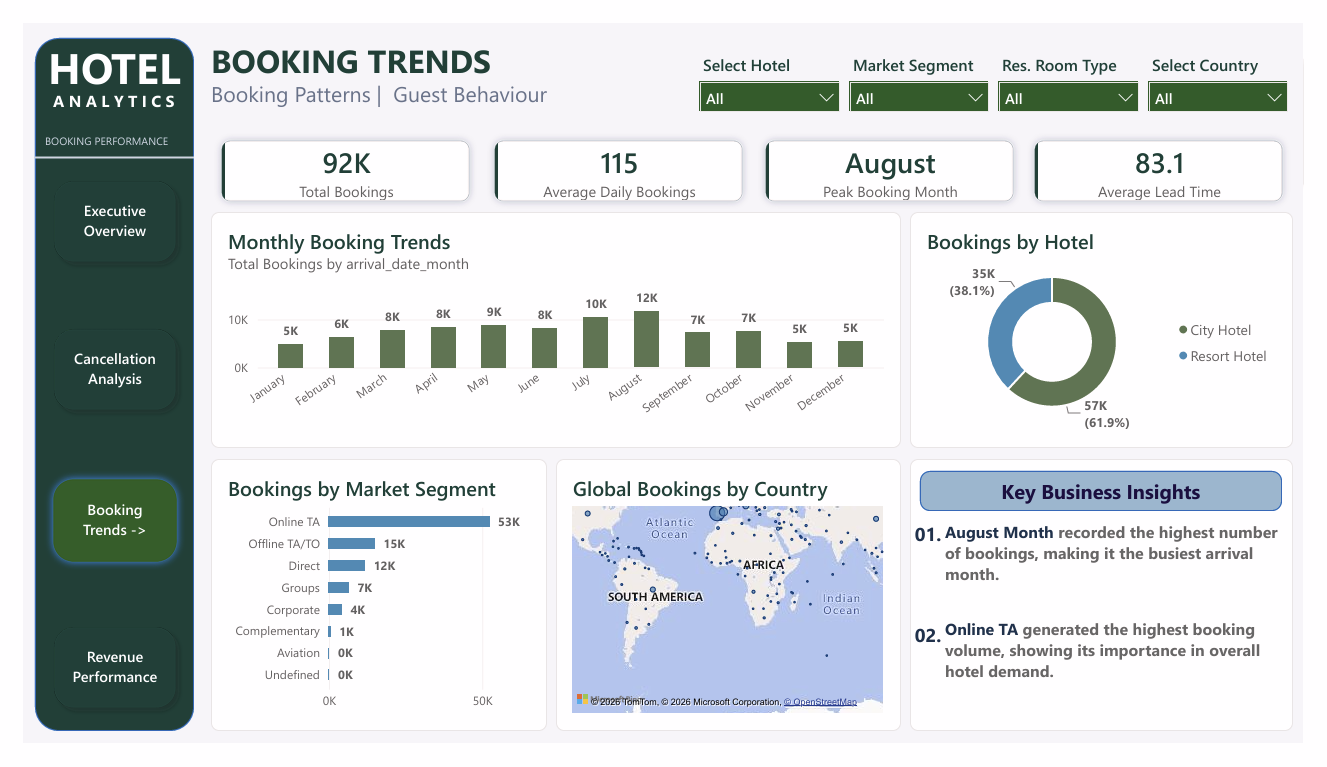

The page's visual inventory and layout, read from the dashboard file:
{"tool":"powerbi","page":{"name":"Booking Trends","canvas":[1280,720],"ordinal":2},"visuals":[{"type":"textbox","box":[186.6,13.7,1082.7,81],"z":0},{"type":"textbox","box":[186.6,54.9,465.2,39.8],"z":1000},{"type":"shape","box":[11,13.7,159.2,693],"z":2000},{"type":"textbox","box":[11,13.7,159.2,65.9],"z":3000},{"type":"textbox","box":[20.6,105.7,149.6,28.8],"z":4000},{"type":"shape","box":[11,119.4,159.2,28.8],"z":5000},{"type":"actionButton","box":[20.6,148.2,140,98.8],"z":6000},{"type":"textbox","box":[28.8,65.9,141.3,28.8],"z":7000},{"type":"actionButton","box":[20.6,296.4,140,98.8],"z":8000},{"type":"actionButton","box":[20.6,447.3,140,98.8],"z":9000},{"type":"actionButton","box":[20.6,594.2,140,98.8],"z":10000},{"type":"cardVisual","fields":{"Data":["Hotel Measures.Total Bookings"]},"box":[186.6,105.7,269,82.3],"z":11000},{"type":"slicer","fields":{"Values":["public hotel_bookings_unique.hotel"]},"box":[671,30.2,149.6,64.5],"z":12000},{"type":"slicer","fields":{"Values":["public hotel_bookings_unique.market_segment"]},"box":[820.6,30.2,149.6,64.5],"z":13000},{"type":"slicer","fields":{"Values":["public hotel_bookings_unique.country"]},"box":[1119.7,30.2,149.6,64.5],"z":14000},{"type":"slicer","fields":{"Values":["public hotel_bookings_unique.reserved_room_type"]},"box":[970.2,30.2,149.6,64.5],"z":15000},{"type":"cardVisual","fields":{"Data":["Hotel Measures.Average Daily Bookings"]},"box":[459.7,105.7,269,82.3],"z":16000},{"type":"cardVisual","fields":{"Data":["Hotel Measures.Peak Booking Month"]},"box":[731.4,105.7,269,82.3],"z":17000},{"type":"cardVisual","fields":{"Data":["Hotel Measures.Average Lead Time"]},"box":[1000.3,105.7,269,82.3],"z":18000},{"type":"textbox","title":"Key Insights","box":[886.5,435,382.8,271.7],"z":19000},{"type":"shape","box":[896.1,447.3,362.3,39.8],"z":20000},{"type":"clusteredColumnChart","title":"Monthly Booking Trends","fields":{"Category":["public hotel_bookings_unique.arrival_date_month"],"Y":["Hotel Measures.Total Bookings"]},"box":[186.6,188,690.2,236],"z":21000},{"type":"donutChart","title":"Bookings by Hotel","fields":{"Category":["public hotel_bookings_unique.hotel"],"Y":["Hotel Measures.Total Bookings"]},"box":[886.5,188,382.8,236],"z":22000},{"type":"clusteredBarChart","title":"Bookings by Market Segment","fields":{"Category":["public hotel_bookings_unique.market_segment"],"Y":["Hotel Measures.Total Bookings"]},"box":[186.6,435,336.2,271.7],"z":23000},{"type":"map","title":"Global Bookings by Country","fields":{"Category":["public hotel_bookings_unique.country"],"Size":["Hotel Measures.Total Bookings"]},"box":[532.4,435,344.4,271.7],"z":24000},{"type":"textbox","box":[920.9,497,337,97],"z":25000},{"type":"textbox","box":[920.9,594,337,98.7],"z":26000},{"type":"textbox","box":[886.8,497,34,195.7],"z":27000}]}

Visuals, with their boxes in screenshot pixels (x1, y1, x2, y2), scaled from the page's 1280x720 canvas onto the 1327x767 screenshot:
textbox: <box>193,15,1316,101</box>
textbox: <box>193,58,676,101</box>
shape: <box>11,15,176,753</box>
textbox: <box>11,15,176,85</box>
textbox: <box>21,113,176,143</box>
shape: <box>11,127,176,158</box>
actionButton: <box>21,158,166,263</box>
textbox: <box>30,70,176,101</box>
actionButton: <box>21,316,166,421</box>
actionButton: <box>21,476,166,582</box>
actionButton: <box>21,633,166,738</box>
cardVisual - Hotel Measures.Total Bookings: <box>193,113,472,200</box>
slicer - public hotel_bookings_unique.hotel: <box>696,32,851,101</box>
slicer - public hotel_bookings_unique.market_segment: <box>851,32,1006,101</box>
slicer - public hotel_bookings_unique.country: <box>1161,32,1316,101</box>
slicer - public hotel_bookings_unique.reserved_room_type: <box>1006,32,1161,101</box>
cardVisual - Hotel Measures.Average Daily Bookings: <box>477,113,755,200</box>
cardVisual - Hotel Measures.Peak Booking Month: <box>758,113,1037,200</box>
cardVisual - Hotel Measures.Average Lead Time: <box>1037,113,1316,200</box>
"Key Insights" textbox: <box>919,463,1316,753</box>
shape: <box>929,476,1305,519</box>
"Monthly Booking Trends" clusteredColumnChart: <box>193,200,909,452</box>
"Bookings by Hotel" donutChart: <box>919,200,1316,452</box>
"Bookings by Market Segment" clusteredBarChart: <box>193,463,542,753</box>
"Global Bookings by Country" map: <box>552,463,909,753</box>
textbox: <box>955,529,1304,633</box>
textbox: <box>955,633,1304,738</box>
textbox: <box>919,529,955,738</box>
